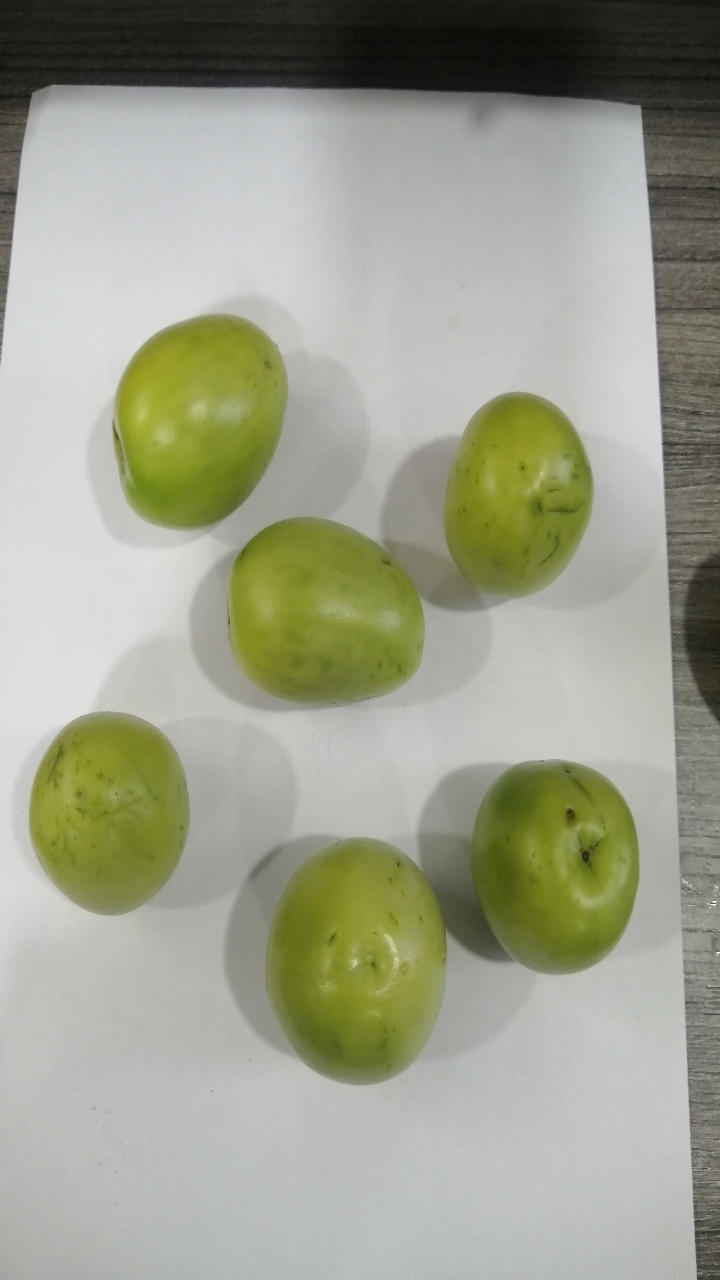tomateVerde: (249, 814, 464, 1108), (197, 506, 446, 734), (86, 283, 288, 555), (457, 735, 649, 980), (15, 686, 198, 932), (443, 365, 615, 623)
